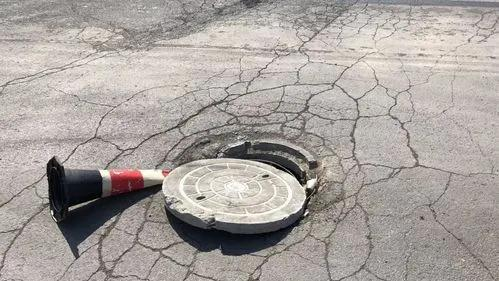wellcover: (172, 138, 337, 252)
